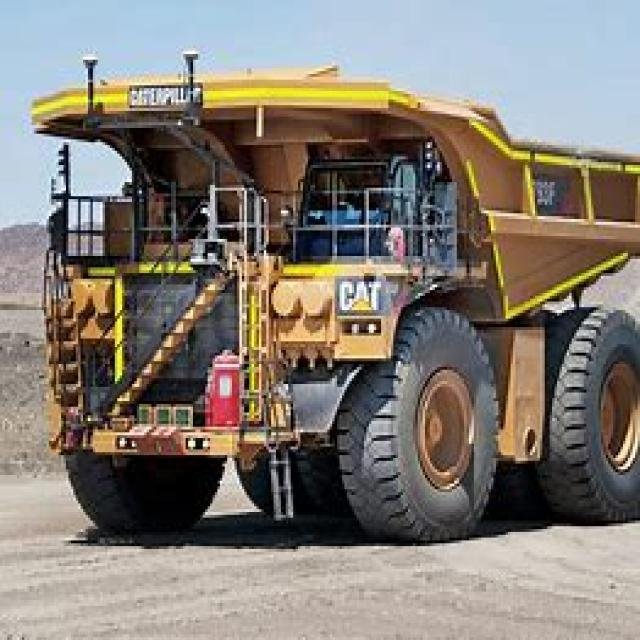dump_truck: (34, 62, 638, 532)
